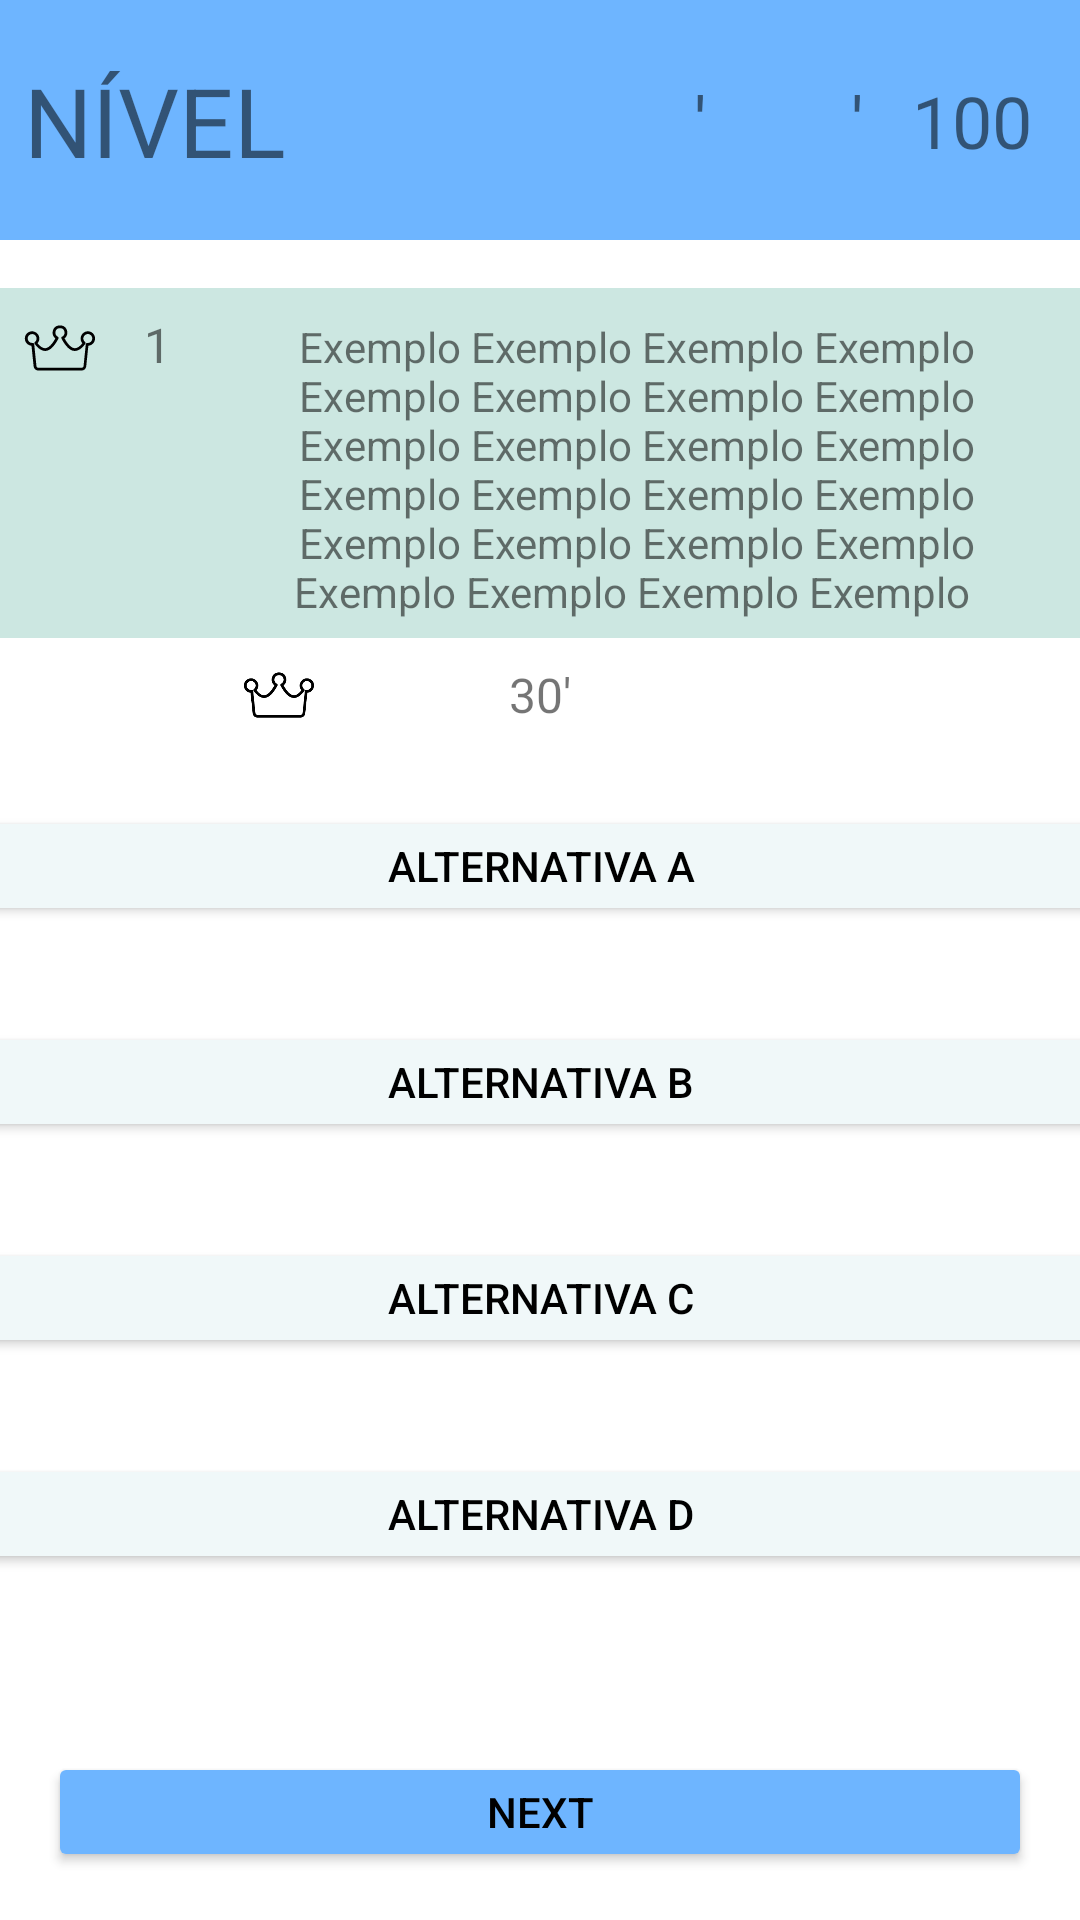

Icons on this 1080 x 1920 Android screen, each with the point to tap as (x,y):
crown: (59,348), (279,695)
